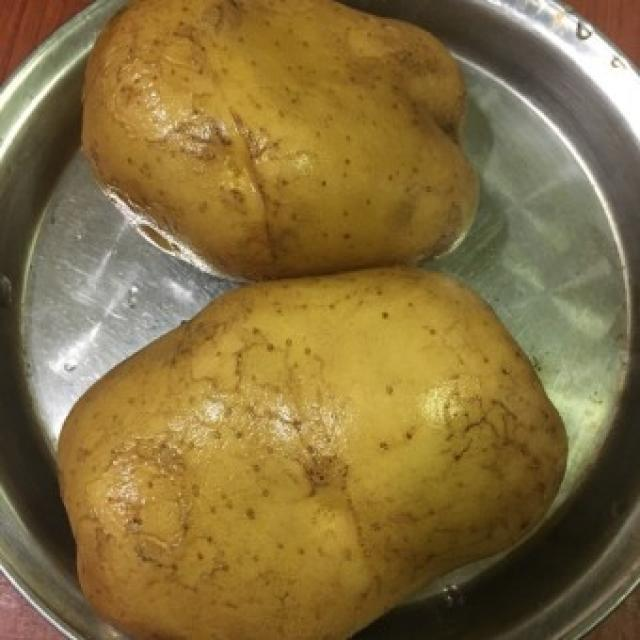potato: (55, 265, 570, 640), (82, 0, 478, 275)
